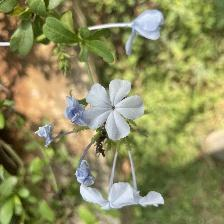chitrak: (84, 78, 145, 142), (79, 180, 170, 213), (130, 10, 165, 44)
